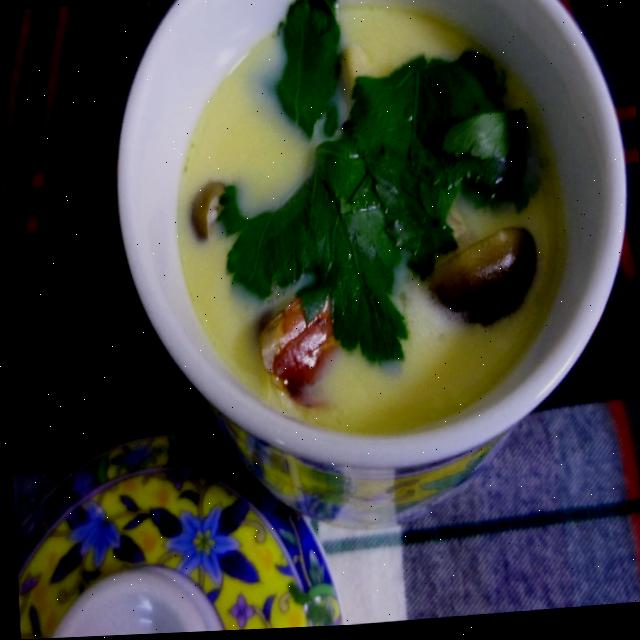鸡蛋料理: (131, 0, 616, 534)
